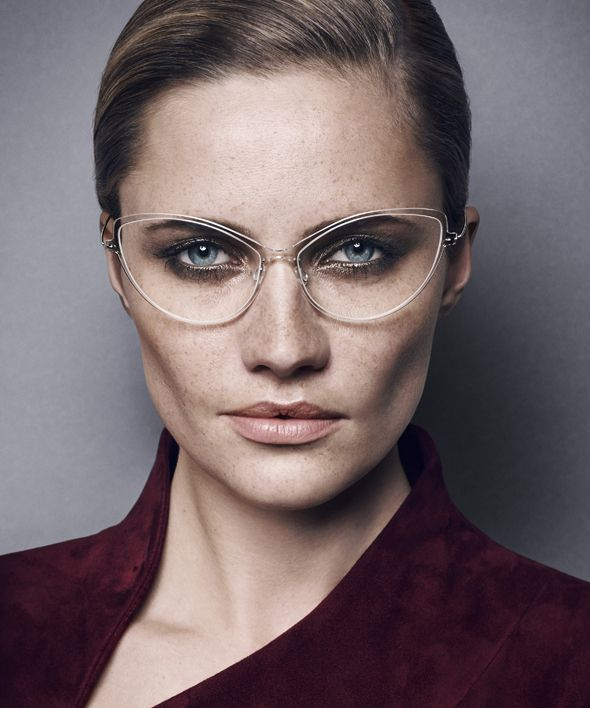llen: (295, 212, 444, 318)
rlen: (117, 216, 262, 322)
